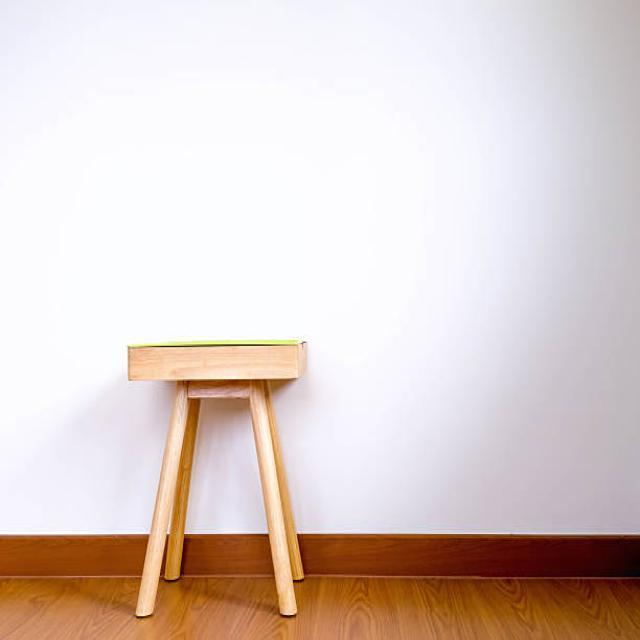table: (126, 339, 308, 618)
